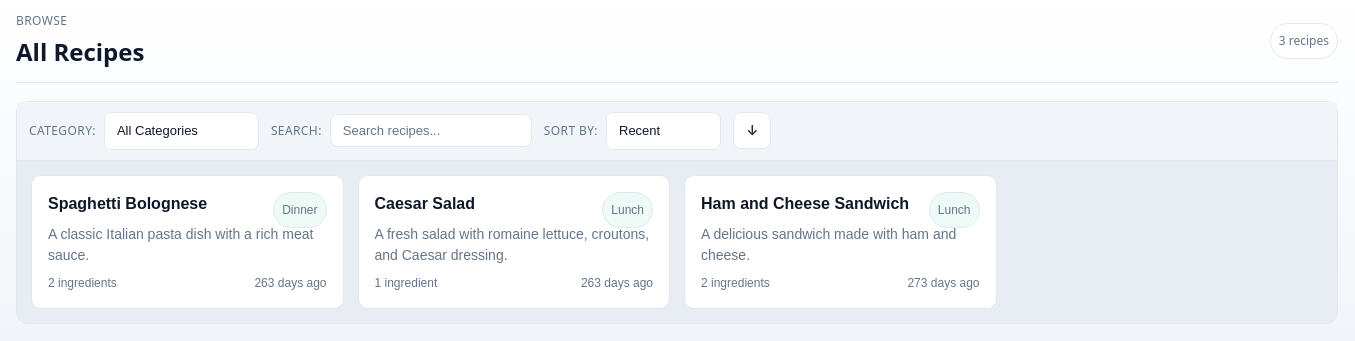
Test: Recipes Page › Sorting › toggles sort direction
Click the button "↓".
click(752, 131)  # box x1=733 y1=112 x2=771 y2=149
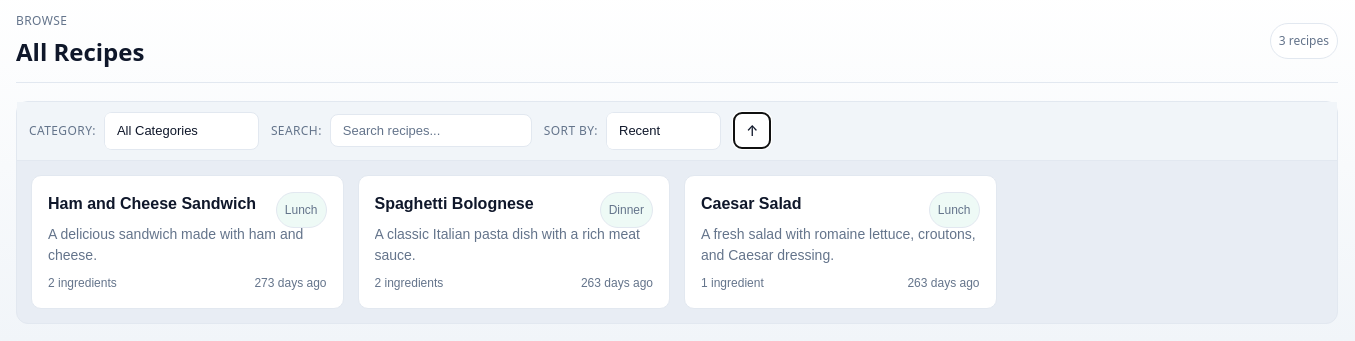
Check: the button "↑" is shown
Click the button "↑".
click(752, 131)  # box x1=733 y1=112 x2=771 y2=149
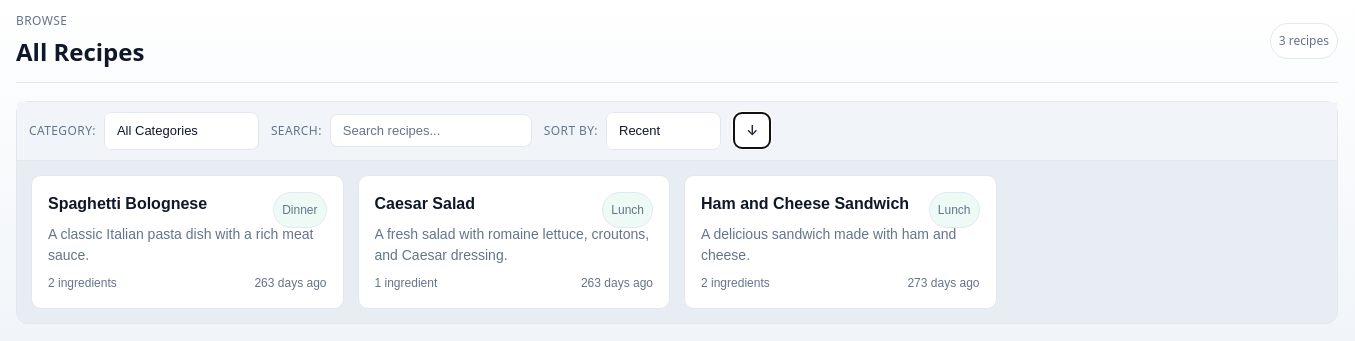
Check: the button "↓" is shown, box x1=733 y1=112 x2=771 y2=149
